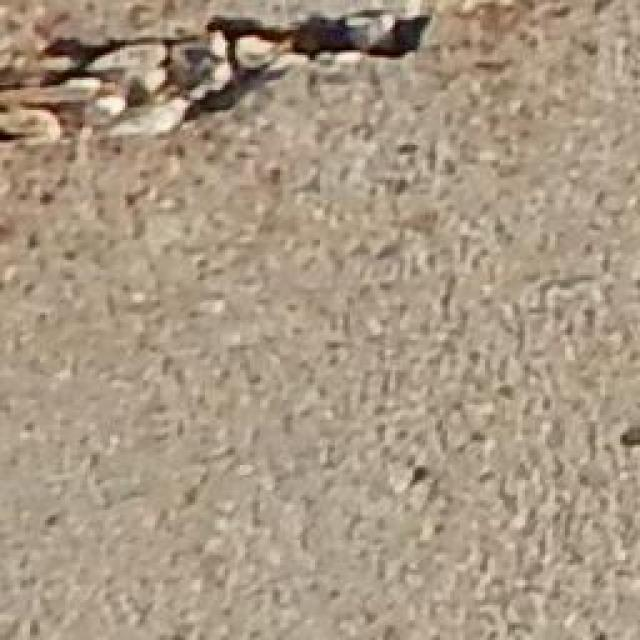concrete-crack: (0, 0, 442, 156)
